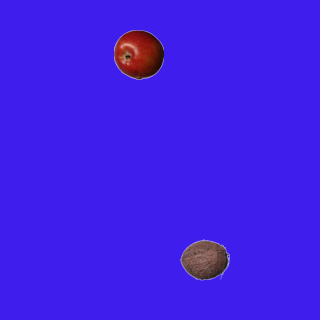Apple Braeburn: (113, 29, 163, 79)
Cocos: (179, 234, 229, 284)
